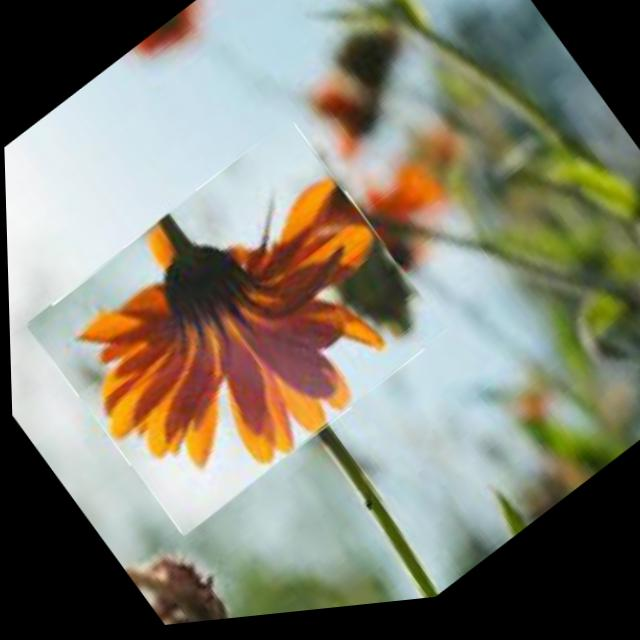Flower: (19, 110, 453, 554)
